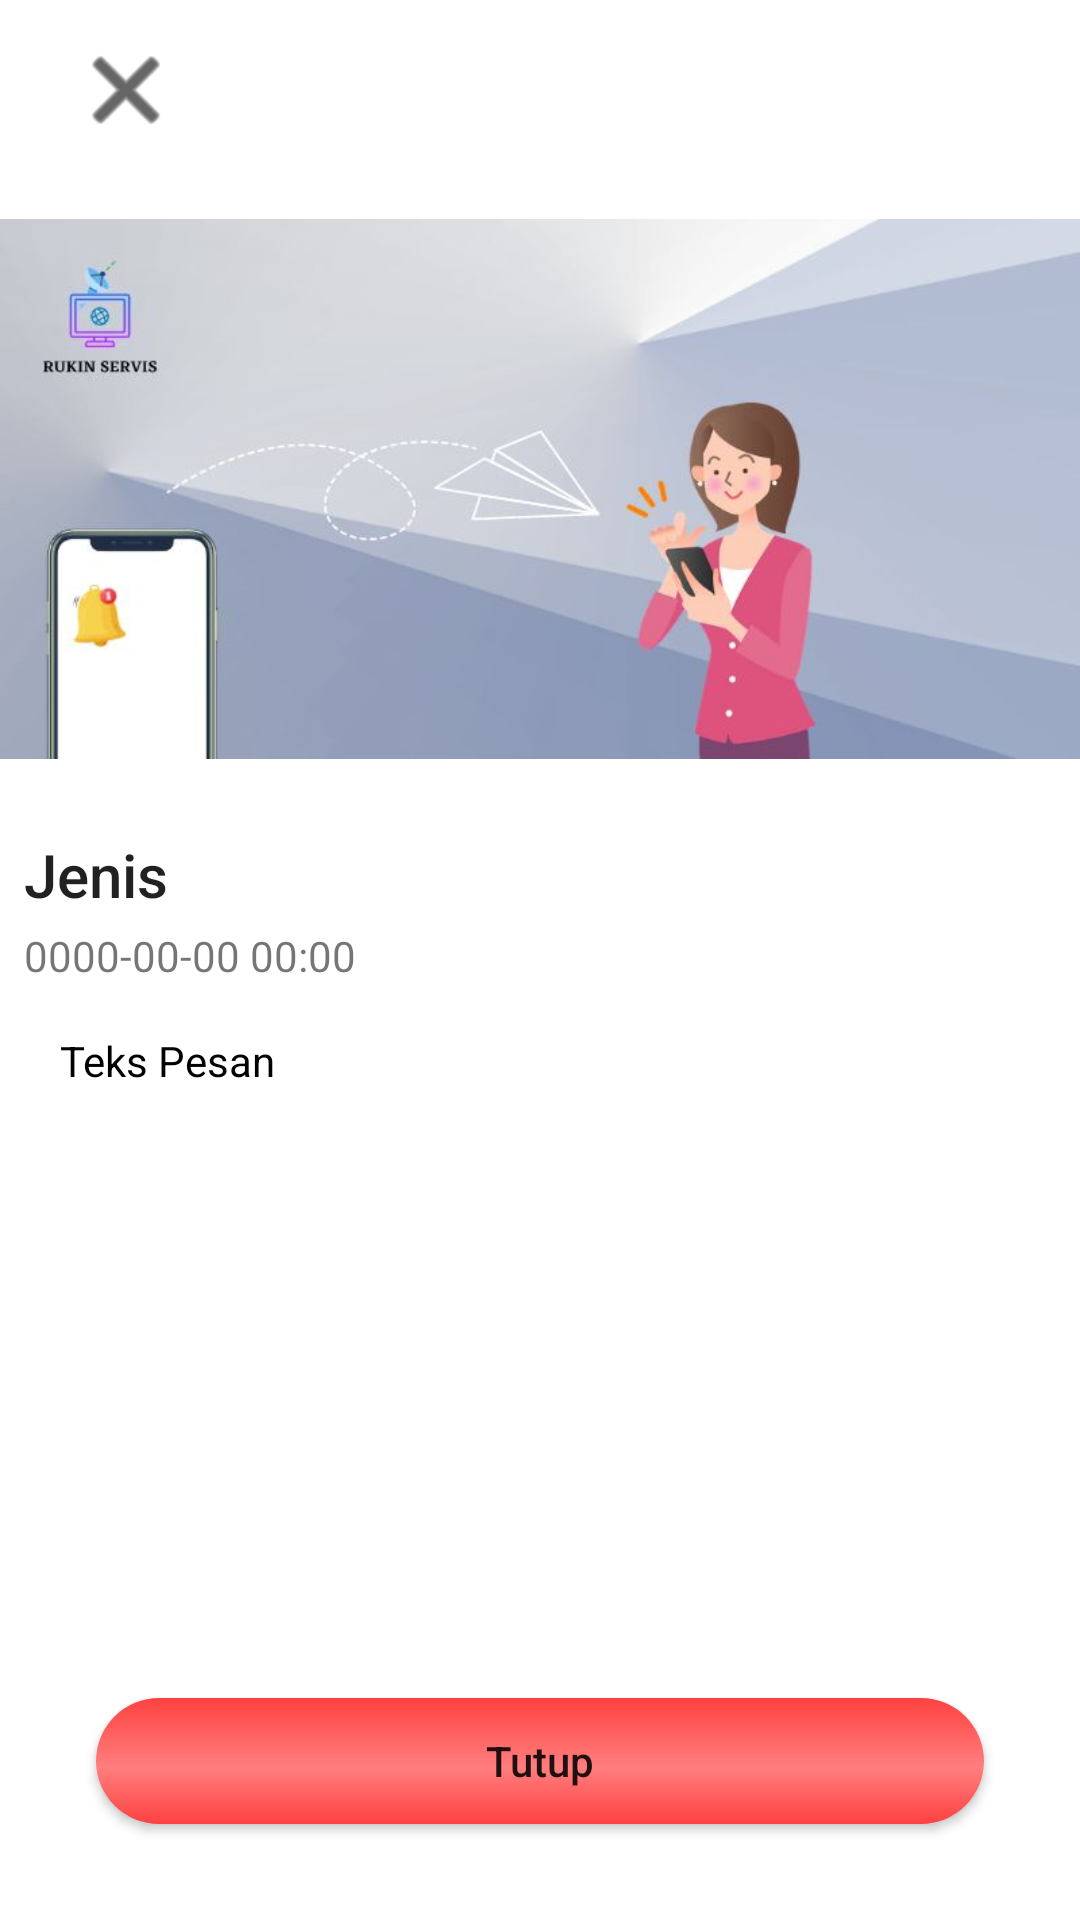

Locate icon controls on the screen. Image size 1080×1920, boxes as {"left": x1, "top": y1, "right": x2, "bottom": y2}.
close clear cancel: {"left": 92, "top": 56, "right": 160, "bottom": 124}
